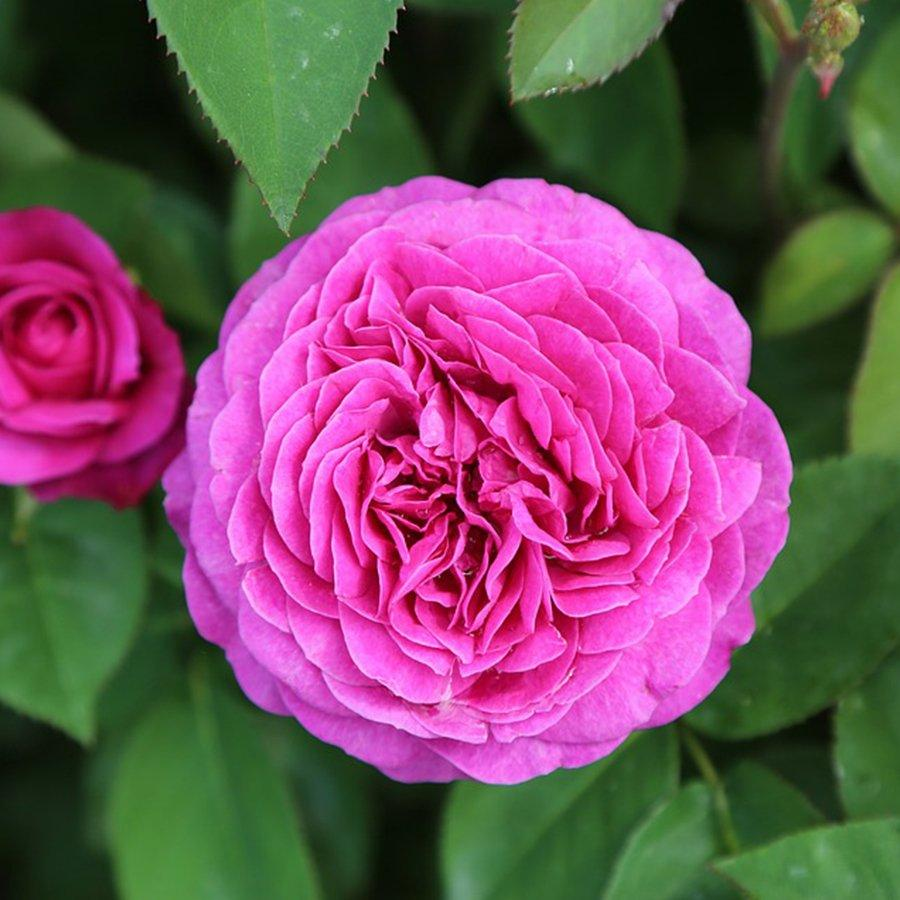Rose: (199, 160, 796, 781), (1, 178, 189, 581)
